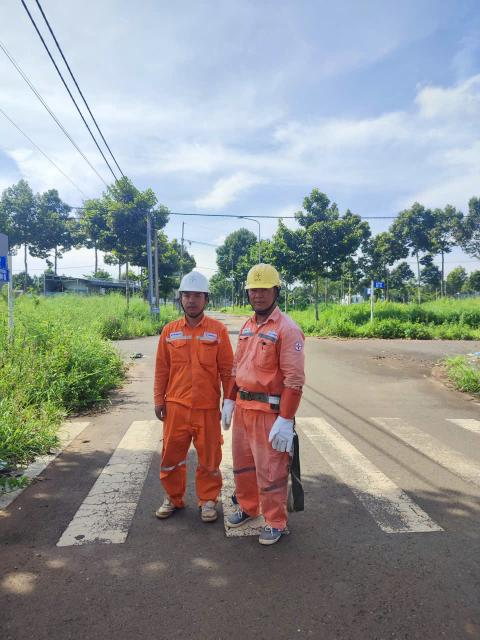gloves: (265, 415, 300, 451), (222, 396, 236, 432)
harness: (234, 380, 281, 411)
helmet: (244, 258, 284, 295), (175, 270, 216, 301)
shoes: (248, 518, 291, 541), (223, 502, 260, 527), (154, 490, 185, 516), (192, 497, 222, 522)
